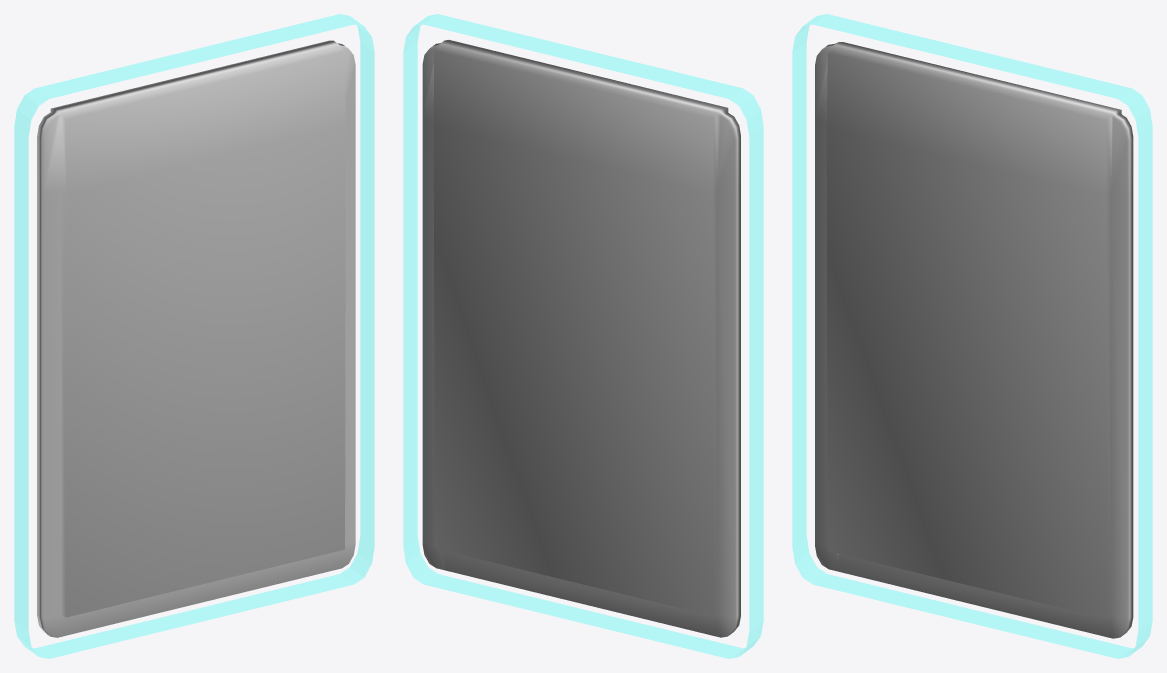
The model's file is dragonball_1.glb.
3 views of the same model, side by side, from view 1: azimuth 30°, elevation 25°; view 2: azimuth 150°, elevation 25°; view 3: azimuth 330°, elevation 25° (orthographic).
Visible parts, largest first — view 1: Cube, Cube.001; view 2: Cube, Cube.001; view 3: Cube, Cube.001.
Boxes of the visible parts, x1,y1,x2,y2 form: Cube: (37, 40, 355, 637); Cube.001: (14, 14, 374, 658); Cube: (422, 40, 740, 637); Cube.001: (403, 14, 763, 658); Cube: (815, 42, 1133, 638); Cube.001: (792, 14, 1152, 658).
Size of the model in its own units: 1.4 by 2.17 by 0.116.
